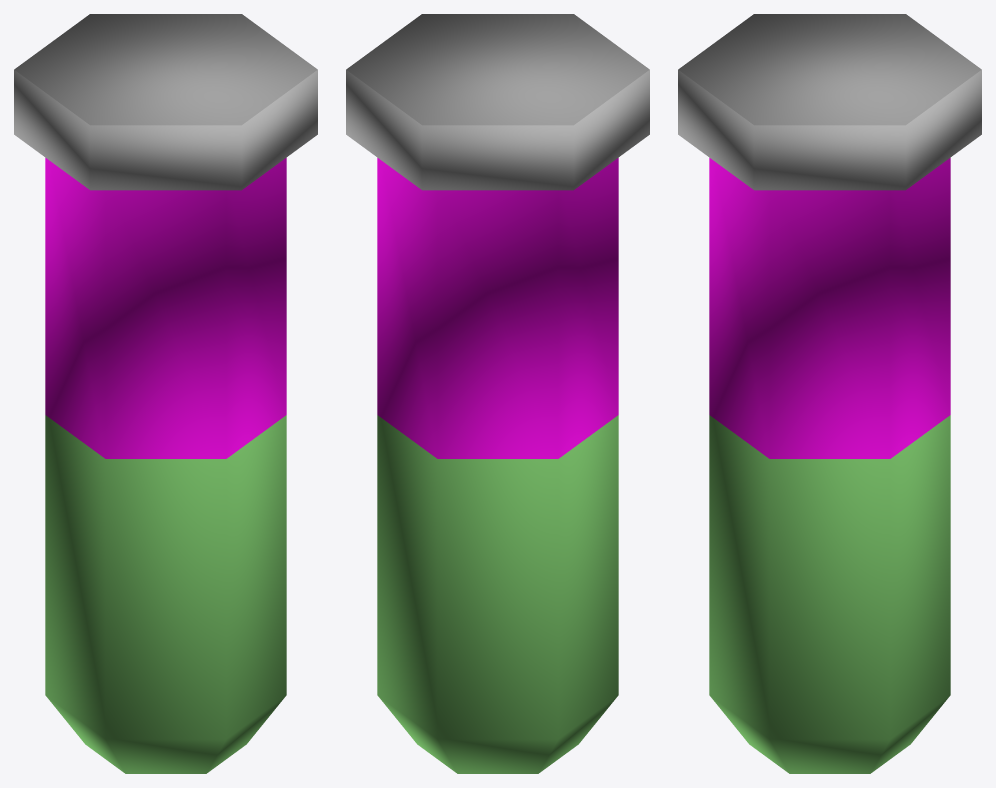
File: Coin Extract Vial Green.fbx
3 views of the same model, side by side, from view 1: azimuth 30°, elevation 25°; view 2: azimuth 150°, elevation 25°; view 3: azimuth 270°, elevation 25° (orthographic).
Parts seen in each view (by area): view 1: Cylinder; view 2: Cylinder; view 3: Cylinder.
Boxes of the visible parts, bbox=[...] form: Cylinder: bbox=[14, 14, 317, 773]; Cylinder: bbox=[346, 14, 649, 773]; Cylinder: bbox=[678, 14, 981, 773].
Bounding box in the file's own units: 218 × 617 × 252.
